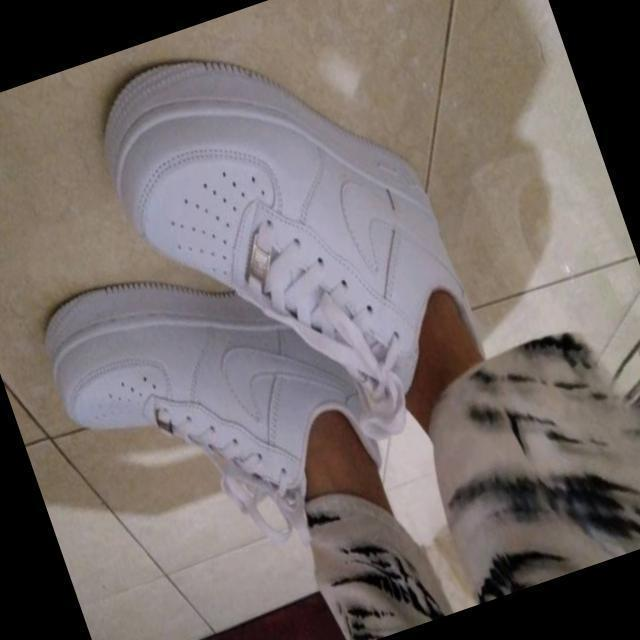nike fake air force: (78, 0, 500, 486), (23, 210, 395, 570)
